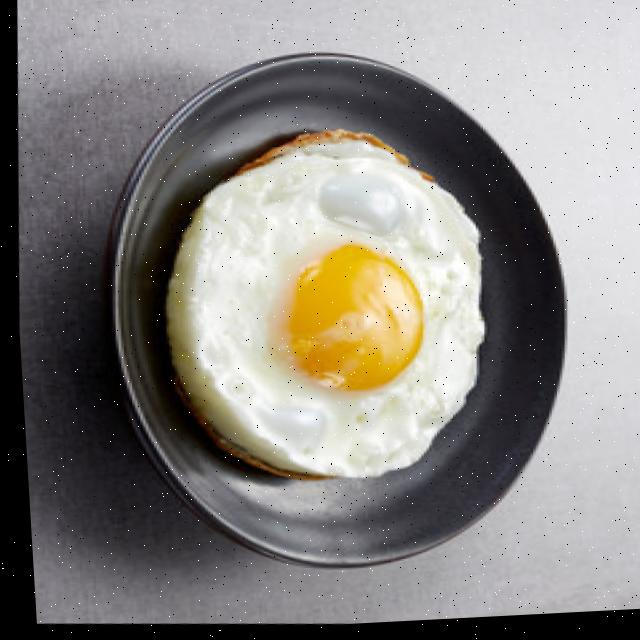Egg: (162, 138, 479, 482)
